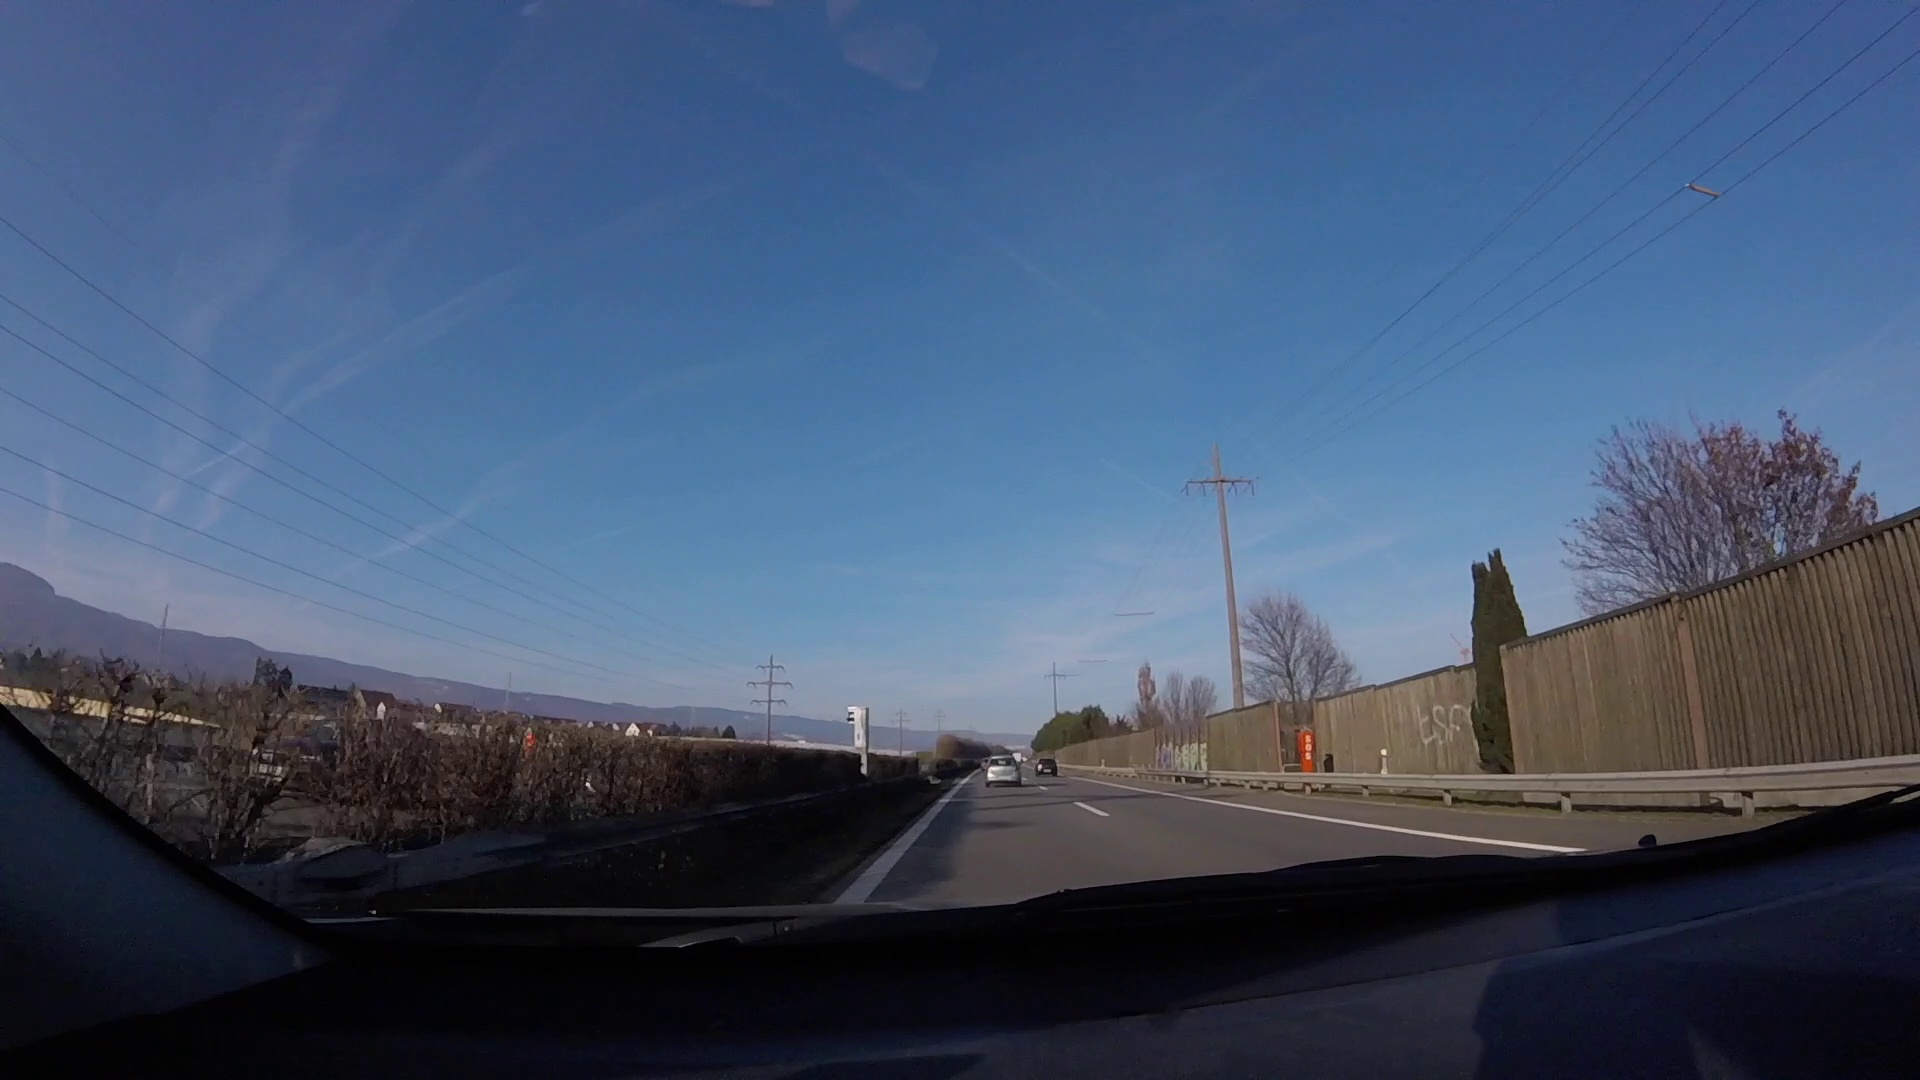radar: (844, 704, 874, 778)
